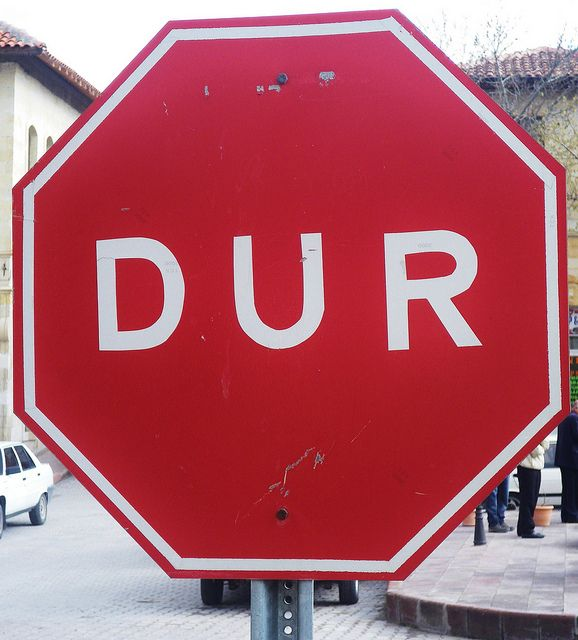dur: (2, 8, 572, 588)
